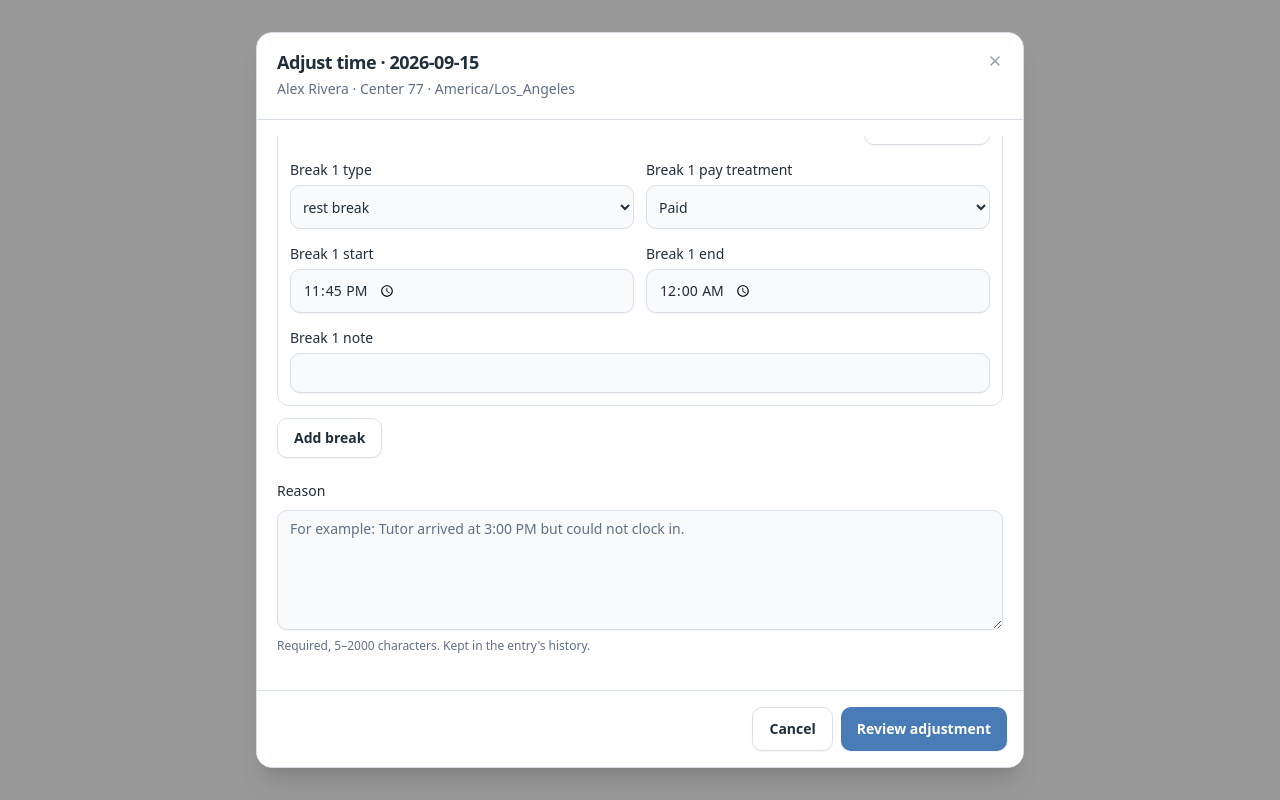
it: preserves midnight session and break ends when reviewing an approved correction
The image size is (1280, 800).
(page scrolled)
Replace the text in the text box labelled "Reason" with "Preserve midnight clock-out" at (640, 570), box [277,510,1003,630]
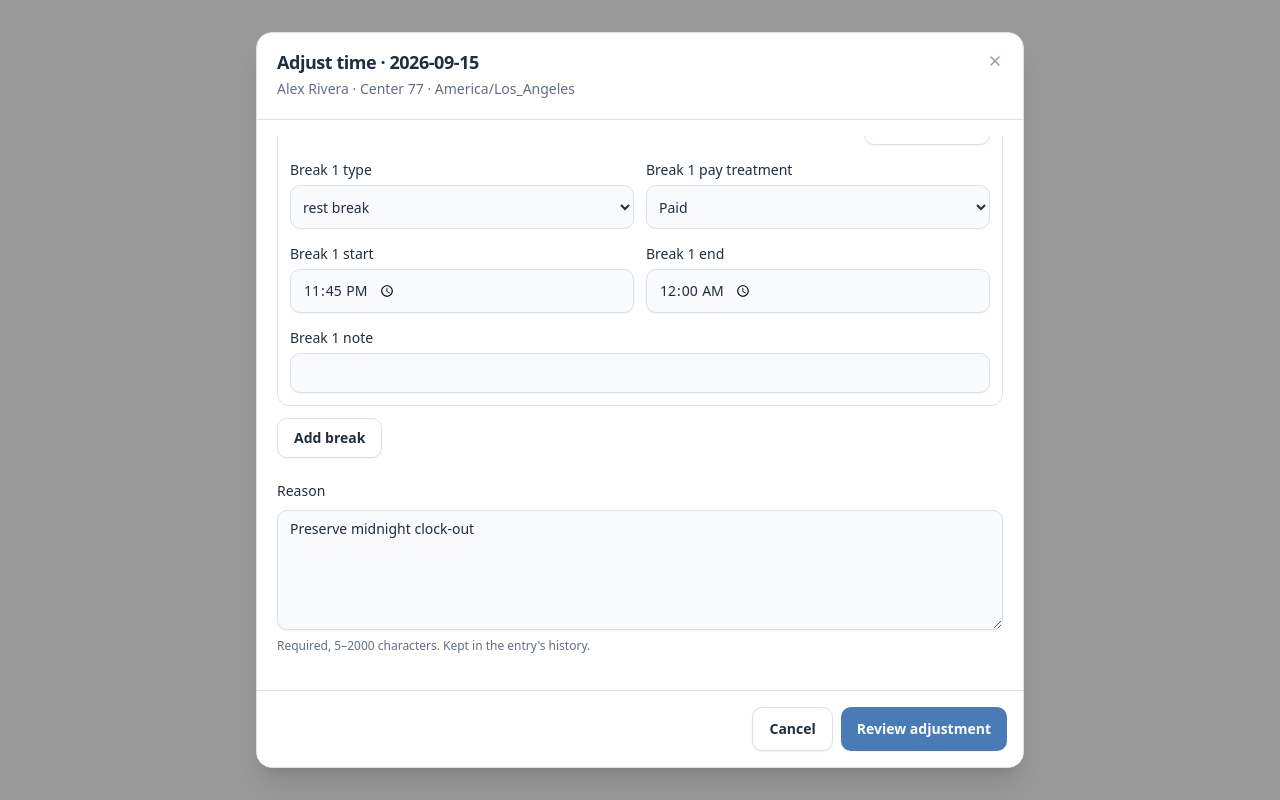
Click the button "Review adjustment".
click(924, 729)  # box [841,707,1007,751]
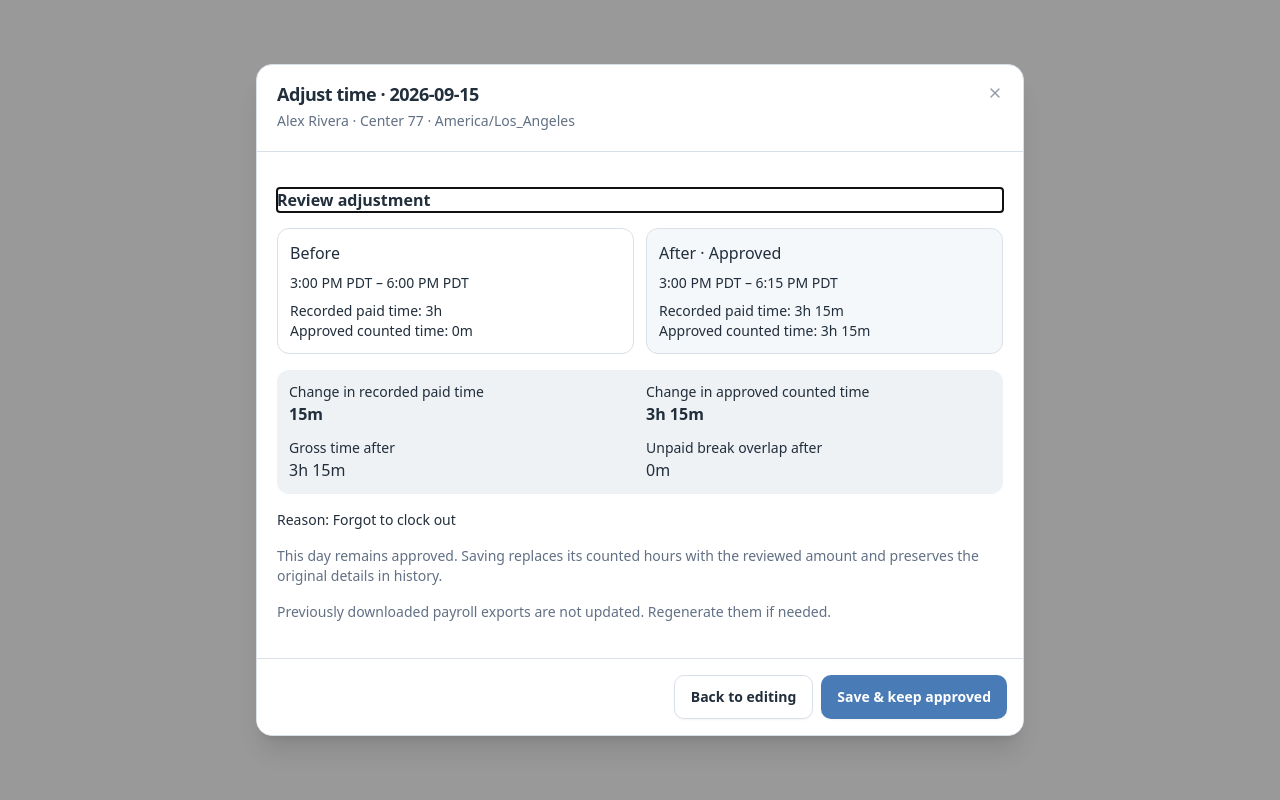
Check: the button "Save & keep approved" is shown, box [821,675,1007,719]
